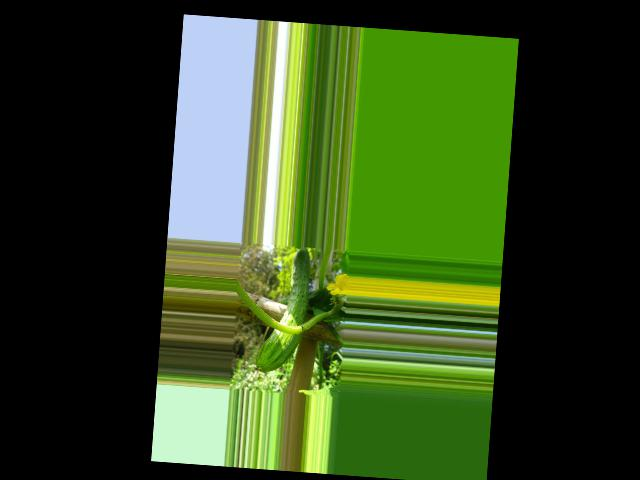cucumber: (256, 244, 312, 375)
